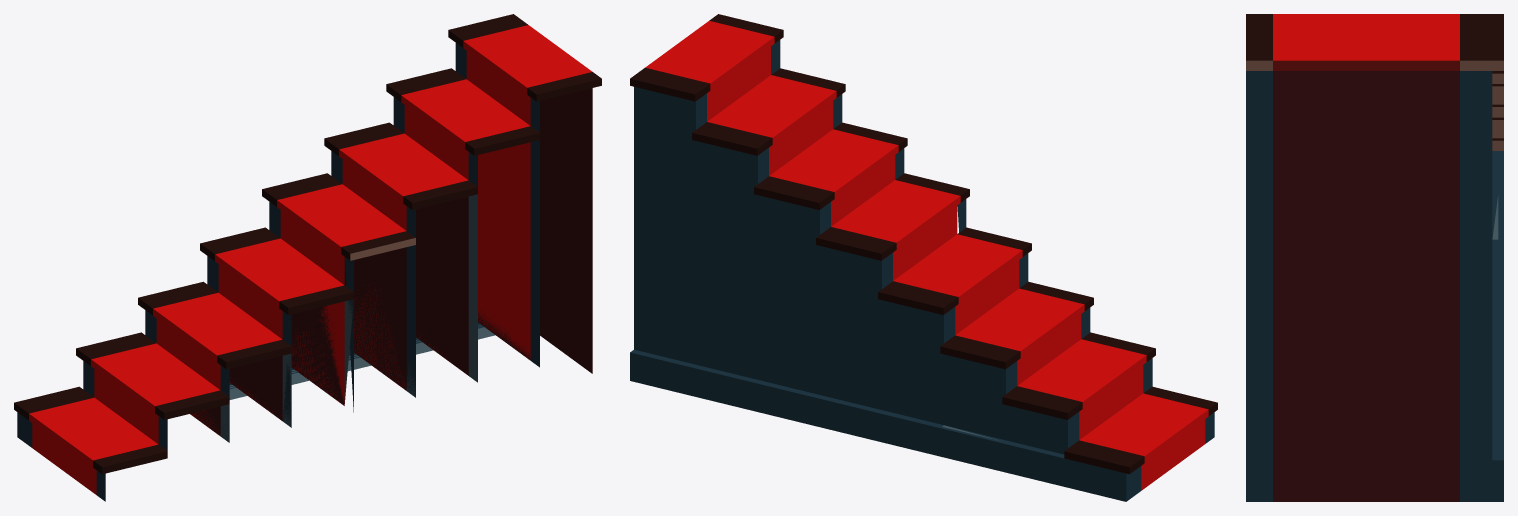
File: merdiven-stairs.fbx
3 views of the same model, side by side, from view 1: azimuth 30°, elevation 25°; view 2: azimuth 150°, elevation 25°; view 3: azimuth 270°, elevation 25° (orthographic). The views are drawn at different scales.
Visible parts, largest first — view 1: merdiven-stairs; view 2: merdiven-stairs; view 3: merdiven-stairs.
Part boxes in pixels (x1,y1,x2,y2): merdiven-stairs: [14, 14, 601, 501]; merdiven-stairs: [630, 14, 1217, 501]; merdiven-stairs: [1246, 14, 1503, 501].
Bounding box in the file's own units: 148 × 85.58 × 45.31.
